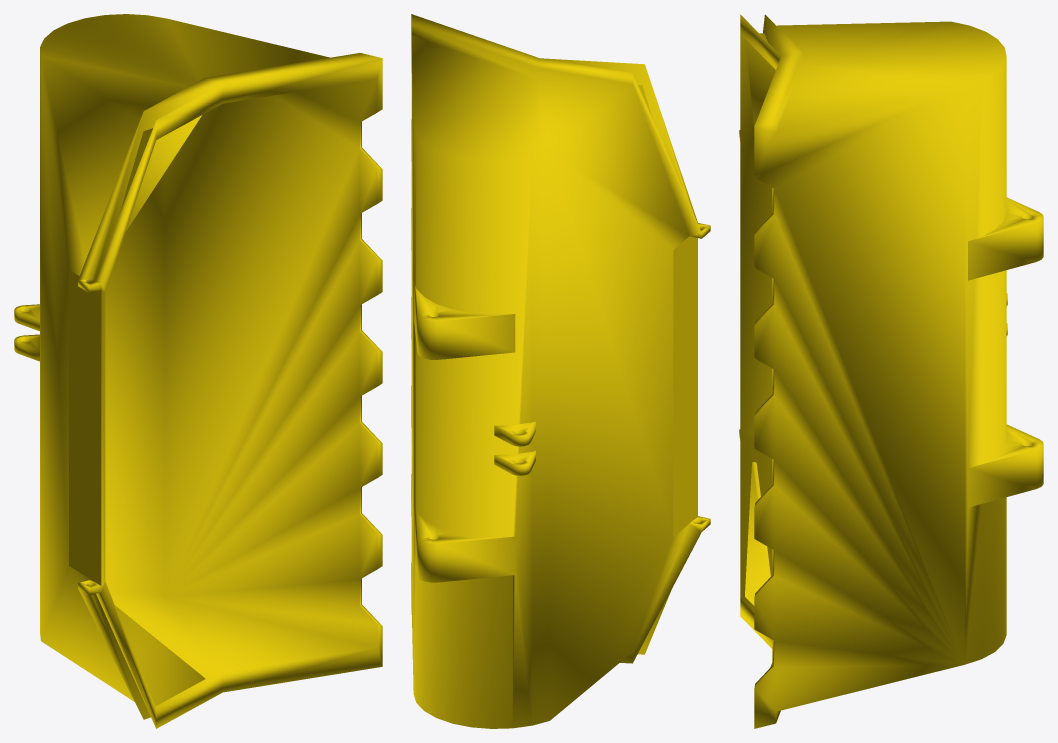
Rendered from bucket_Link_alt.dae.
3 views of the same model, side by side, from view 1: azimuth 30°, elevation 25°; view 2: azimuth 150°, elevation 25°; view 3: azimuth 270°, elevation 25° (orthographic). The views are drawn at different scales.
Parts seen in each view (by area): view 1: node0; view 2: node0; view 3: node0.
Part boxes in pixels (x1,y1,x2,y2): node0: (14,14,382,728); node0: (411,14,710,728); node0: (739,14,1043,728).
Size of the model in its own units: 1.57 by 1.39 by 3.02.
